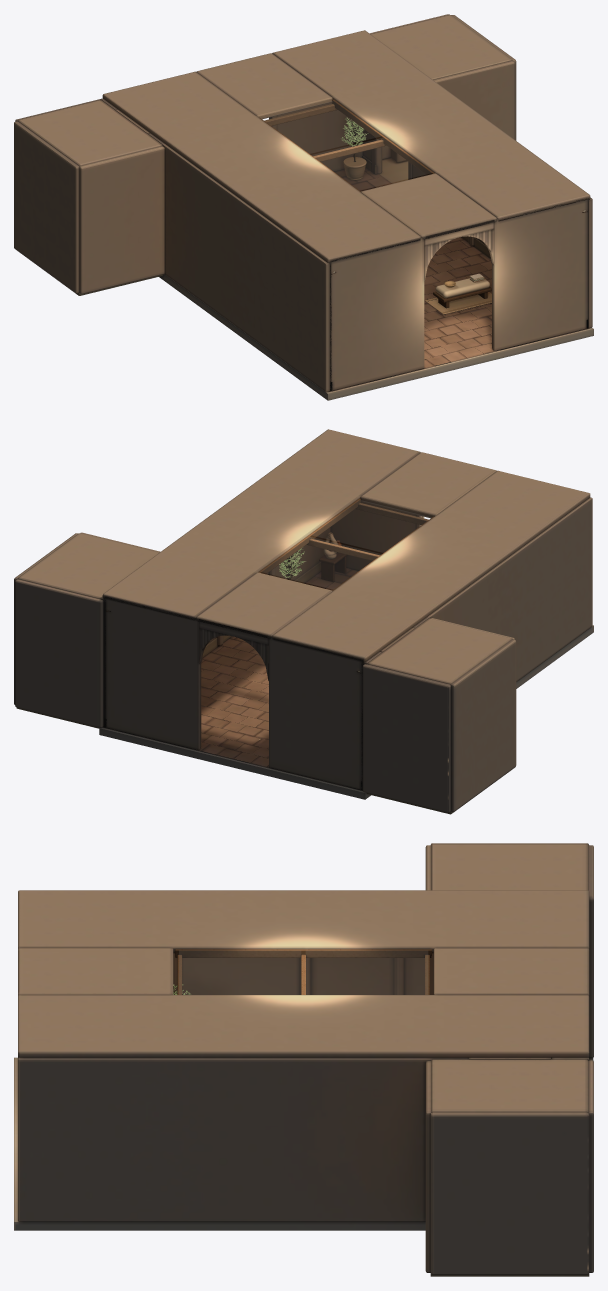
Rendered from extension-baked.glb.
The picture shows the model from 3 angles, top to bottom: view 1: azimuth 30°, elevation 25°; view 2: azimuth 150°, elevation 25°; view 3: azimuth 270°, elevation 25°; orthographic projection. The views are drawn at different scales.
Parts seen in each view (by area): view 1: BAKED extension shell, BAKED extension furniture; view 2: BAKED extension shell, BAKED extension furniture; view 3: BAKED extension shell, BAKED extension furniture.
Part boxes in pixels (left/top/right/bottom): BAKED extension shell: left=14, top=14, right=593, bottom=400; BAKED extension furniture: left=259, top=99, right=491, bottom=314; BAKED extension shell: left=14, top=429, right=593, bottom=814; BAKED extension furniture: left=258, top=498, right=433, bottom=590; BAKED extension shell: left=14, top=843, right=593, bottom=1276; BAKED extension furniture: left=173, top=949, right=431, bottom=994.
Bounding box in the file's own units: 20.3 × 6.17 × 18.28.
7 materials, 2 textured.
